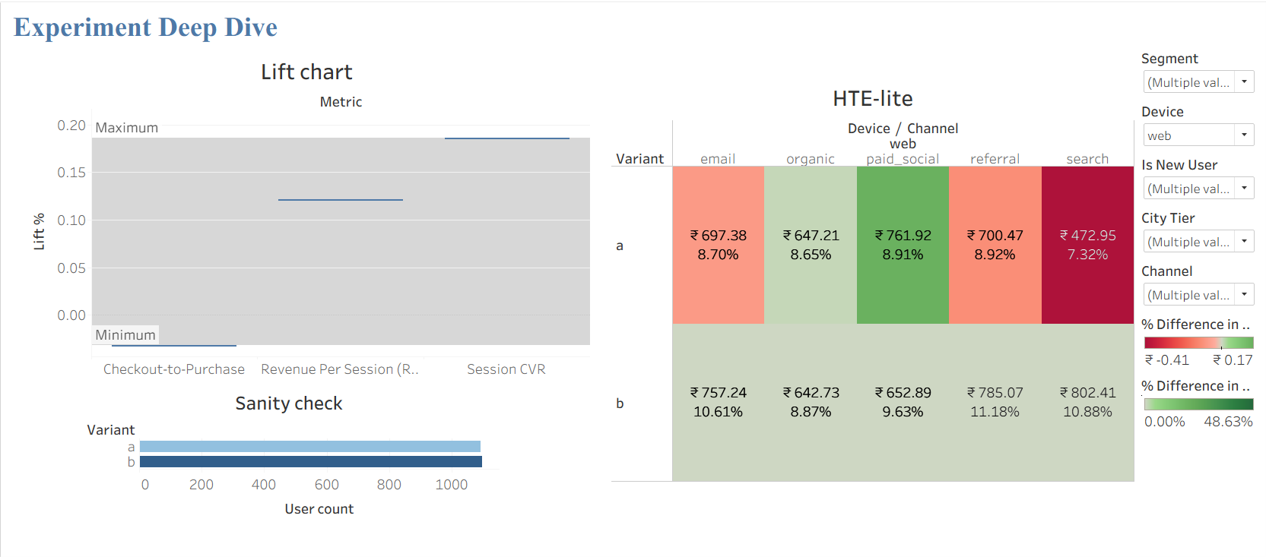

Layout of this report page (visuals, bound fields, positions):
{"tool":"tableau","page":{"name":"Experiment Deep Dive","canvas":[1000,1000],"units":"permille","ordinal":1},"visuals":[{"type":"title","box":[4.8,10.7,990.4,64.3]},{"type":"filter","title":"HTE-Lite","param":"[federated.0zuci3u0xxpv9g10l09xr0a8x0rc].[none:segment:nk]","box":[899,75.1,96.2,93.8]},{"type":"worksheet","title":"Lift chart","mark":"GanttBar","rows":["Lift %"],"cols":["Metric"],"box":[18,88.5,447.7,589.8]},{"type":"worksheet","title":"HTE-Lite","mark":"Square","rows":["variant"],"cols":["device","channel"],"box":[482.6,135.4,413.5,710.5]},{"type":"filter","title":"HTE-Lite","param":"[federated.0zuci3u0xxpv9g10l09xr0a8x0rc].[none:device:nk]","box":[899,168.9,96.2,93.8]},{"type":"filter","title":"HTE-Lite","param":"[federated.0zuci3u0xxpv9g10l09xr0a8x0rc].[none:is_new_user:ok]","box":[899,262.7,96.2,93.8]},{"type":"filter","title":"HTE-Lite","param":"[federated.0zuci3u0xxpv9g10l09xr0a8x0rc].[none:city_tier:ok]","box":[899,356.6,96.2,93.8]},{"type":"filter","title":"HTE-Lite","param":"[federated.0zuci3u0xxpv9g10l09xr0a8x0rc].[none:channel:nk]","box":[899,450.4,96.2,93.8]},{"type":"legend","title":"HTE-Lite","param":"[federated.0zuci3u0xxpv9g10l09xr0a8x0rc].[pcdf:usr:Calculation_23669231261815562","box":[899,544.2,96.2,108.6]},{"type":"legend","title":"HTE-Lite","param":"[federated.0zuci3u0xxpv9g10l09xr0a8x0rc].[pcdf:usr:Calculation_23669231261800816","box":[899,652.8,96.2,108.6]},{"type":"worksheet","title":"Sanity check","mark":"Automatic","rows":["variant"],"cols":["Calculation_2366923126301495335"],"box":[61.3,678.3,332.9,302.9]}]}

Visuals, with their boxes on the dashboard's canvas, which has no fixed pixel size, in thousandths of its width and height (x1, y1, x2, y2). These are canvas units, not pixel positions in the 1266x557 screenshot, which may show the page scaled, cropped or inside an application window:
title: (5, 11, 995, 75)
"HTE-Lite" filter: (899, 75, 995, 169)
"Lift chart" worksheet (GanttBar marks): (18, 88, 466, 678)
"HTE-Lite" worksheet (Square marks): (483, 135, 896, 846)
"HTE-Lite" filter: (899, 169, 995, 263)
"HTE-Lite" filter: (899, 263, 995, 356)
"HTE-Lite" filter: (899, 357, 995, 450)
"HTE-Lite" filter: (899, 450, 995, 544)
"HTE-Lite" legend: (899, 544, 995, 653)
"HTE-Lite" legend: (899, 653, 995, 761)
"Sanity check" worksheet: (61, 678, 394, 981)
